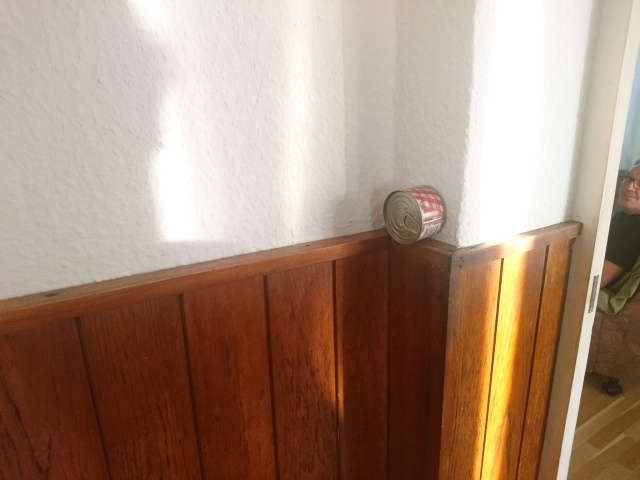Podravka Luncheon Meat 150g: (380, 182, 448, 247)
